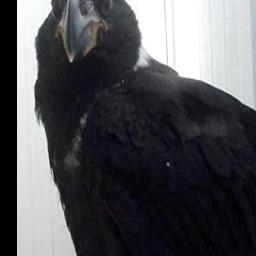Crow: (30, 0, 256, 256)
